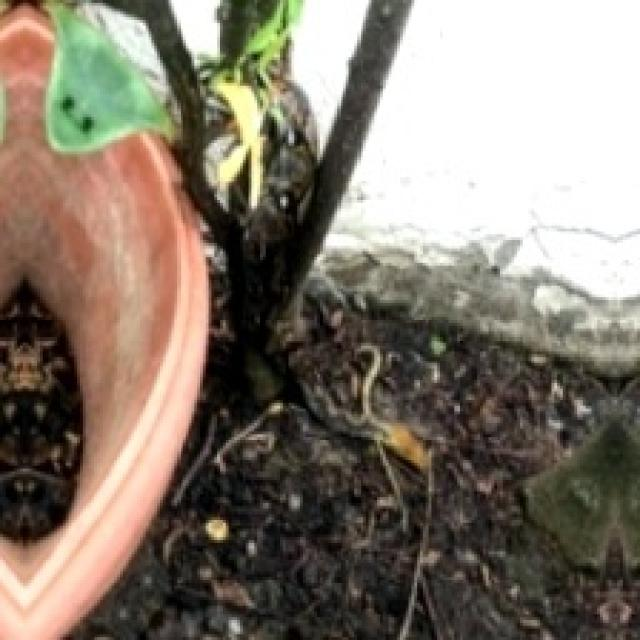reticulated python: (199, 0, 318, 262)
